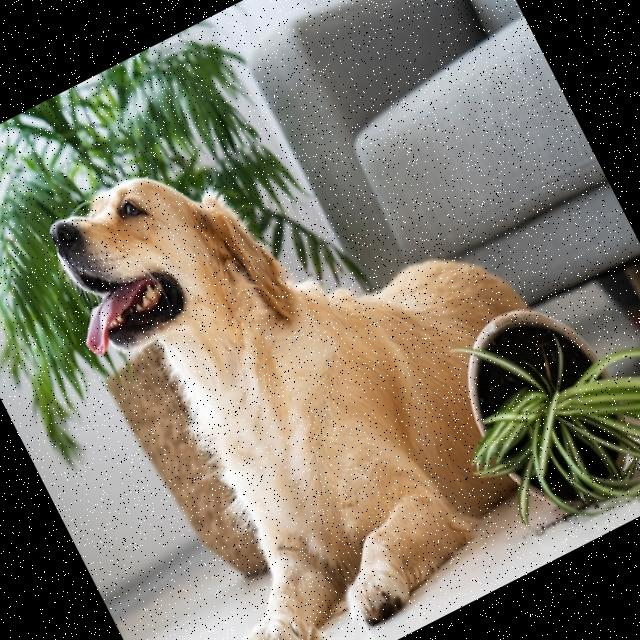Dog: (27, 40, 628, 640)
